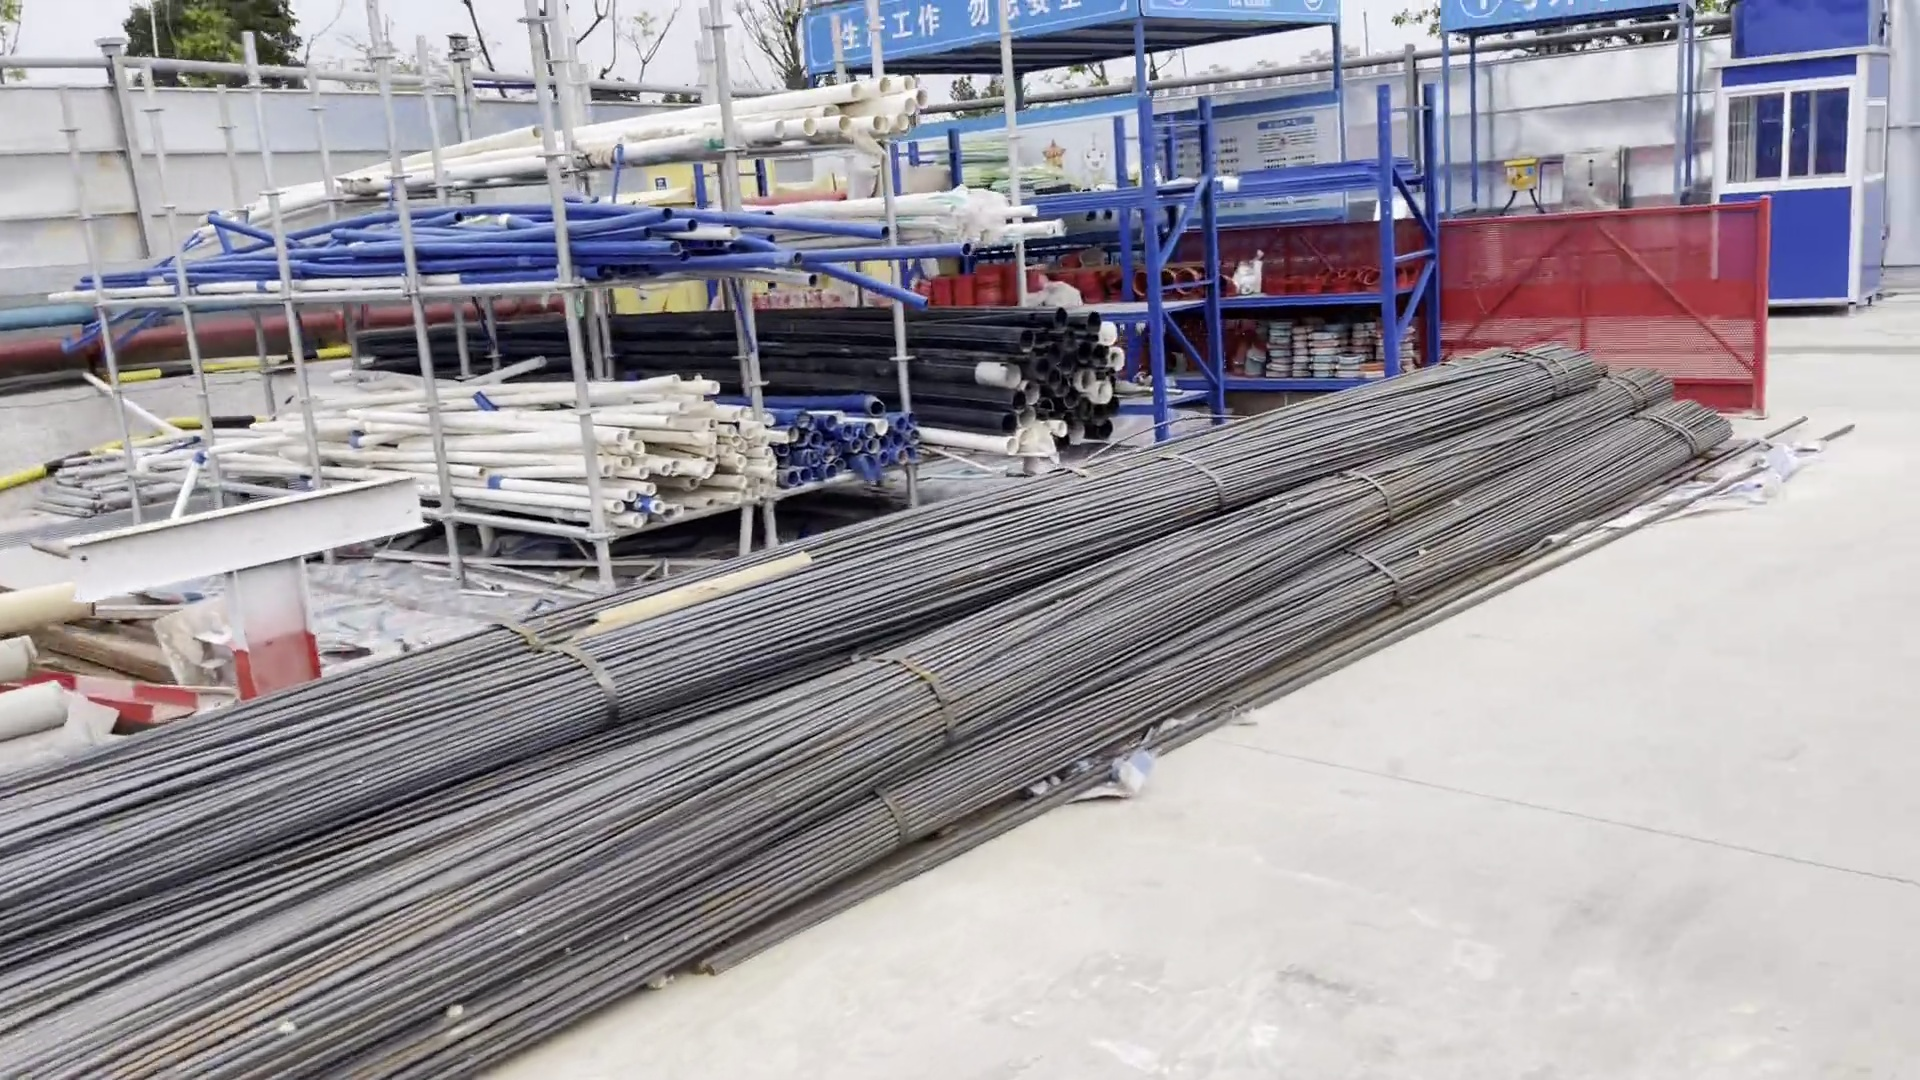ebox: (1505, 153, 1539, 198)
fence: (1429, 196, 1799, 434)
rebar: (423, 450, 1176, 1080), (1153, 338, 1756, 777), (1, 641, 443, 1080)
slogan: (777, 1, 1348, 69), (1138, 78, 1356, 235), (942, 103, 1160, 208), (1429, 1, 1710, 54)
